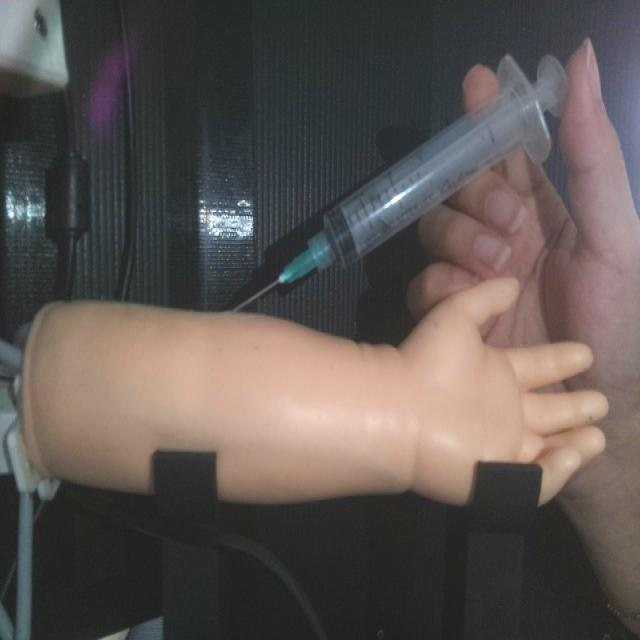Above 30 degrees: (226, 49, 569, 314)
